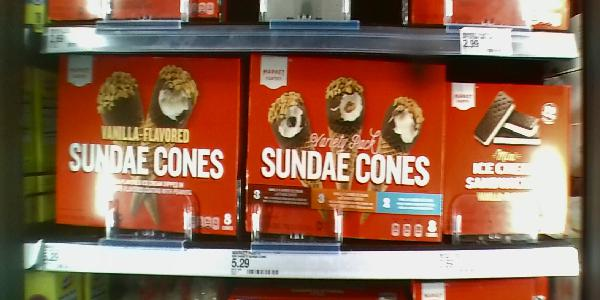icecream: (248, 50, 441, 242), (49, 52, 237, 240), (444, 81, 570, 236)
